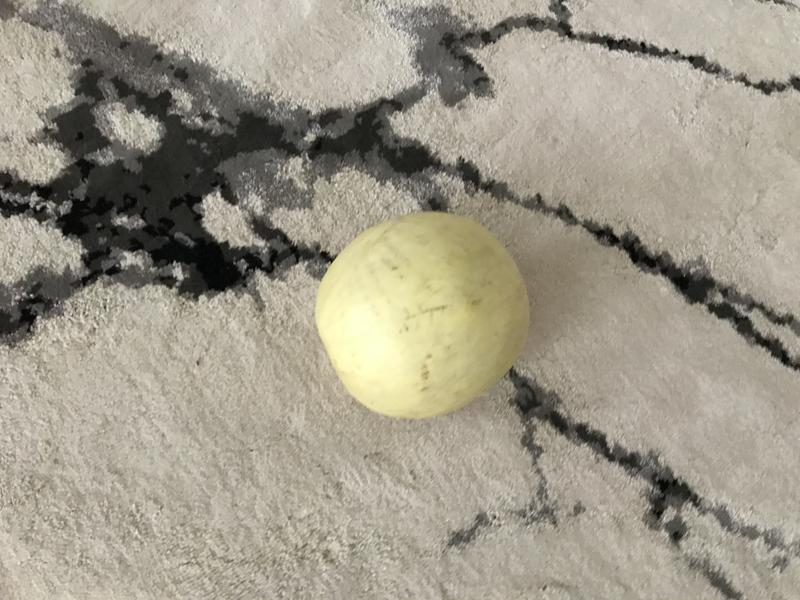honeydew: (307, 200, 533, 424)
